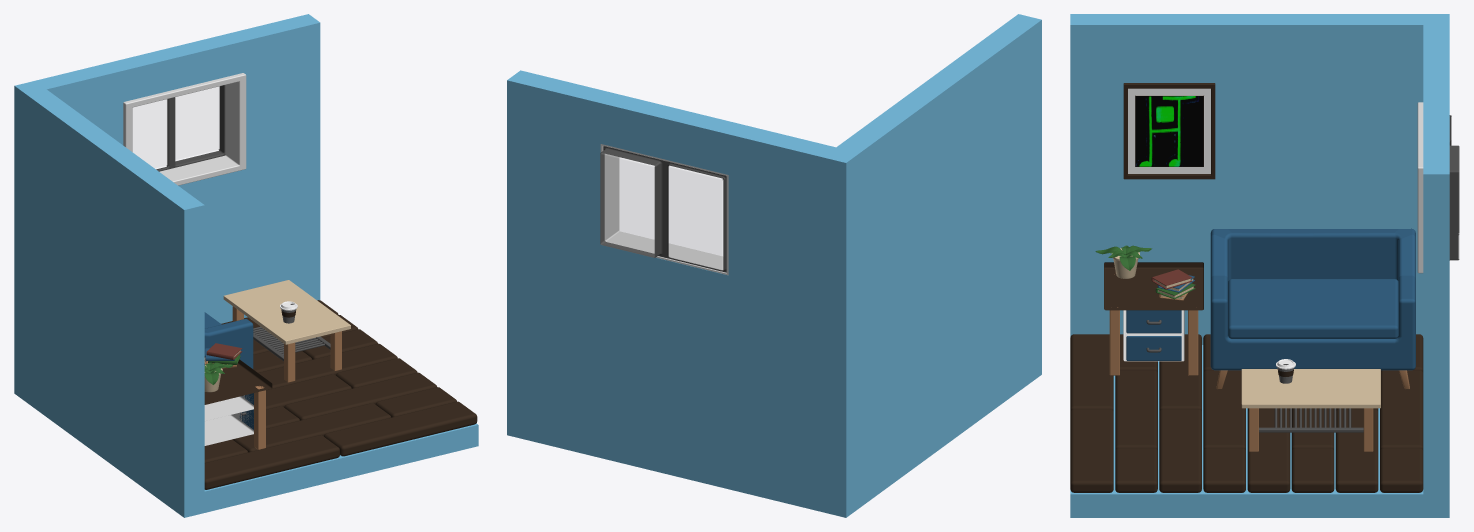
File: second.glb
The picture shows the model from 3 angles, left to right: view 1: azimuth 30°, elevation 25°; view 2: azimuth 150°, elevation 25°; view 3: azimuth 270°, elevation 25°; orthographic projection. The views are drawn at different scales.
Visible parts, largest first — view 1: Cube, Cube.001, Cube.004, Cube.003, Plane.003, Plane.006, Plane, Plane.011, Plane.004, Plane.008, Plane.007, Circle; view 2: Cube, Cube.004, Cube.003; view 3: Cube, Cube.001, Plane, Plane.001, Plane.024, Plane.003, Plane.006, Plane.007, Plane.012, Cube.004, Plane.009, Cube.003 (+5 smaller).
Part boxes in pixels (box(x1,y1,x2,y2)): Cube: box(14, 14, 478, 517); Cube.001: box(204, 300, 477, 489); Cube.004: box(133, 85, 225, 171); Cube.003: box(123, 73, 246, 185); Plane.003: box(223, 280, 350, 344); Plane.006: box(204, 356, 272, 404); Plane: box(204, 319, 253, 368); Plane.011: box(204, 409, 253, 445); Plane.004: box(232, 306, 341, 382); Plane.008: box(204, 395, 253, 420); Plane.007: box(254, 386, 265, 449); Circle: box(253, 326, 324, 354); Cube: box(507, 14, 1041, 517); Cube.004: box(600, 146, 726, 272); Cube.003: box(600, 144, 728, 275); Cube: box(1070, 14, 1449, 517); Cube.001: box(1070, 334, 1423, 492); Plane: box(1210, 228, 1415, 370); Plane.001: box(1228, 279, 1398, 338); Plane.024: box(1123, 83, 1215, 179); Plane.003: box(1241, 369, 1380, 408); Plane.006: box(1104, 262, 1203, 310); Plane.007: box(1109, 274, 1198, 375); Plane.012: box(1126, 336, 1181, 360); Cube.004: box(1449, 115, 1459, 260); Plane.009: box(1126, 310, 1181, 333); Cube.003: box(1417, 102, 1423, 273).
Size of what is drawn, in the model's own units: 2 by 2 by 2.05.
Materials: 12 (1 with a texture image).
